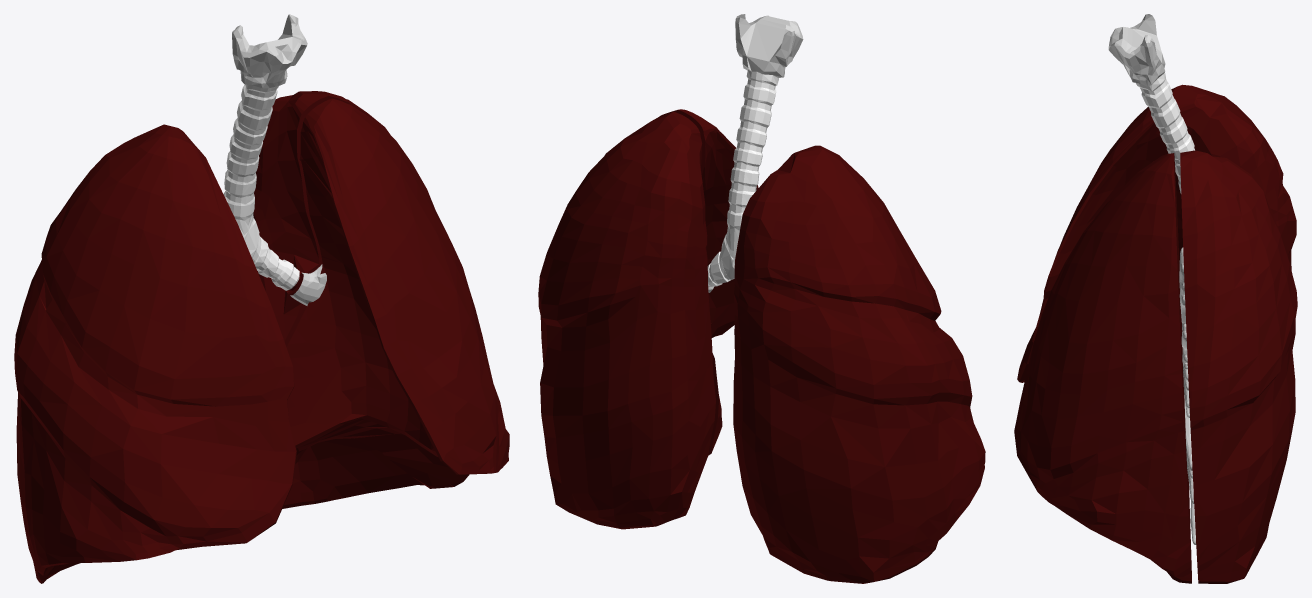
Rendered from lung.obj.
3 views of the same model, side by side, from view 1: azimuth 30°, elevation 25°; view 2: azimuth 150°, elevation 25°; view 3: azimuth 270°, elevation 25° (orthographic). The views are drawn at different scales.
Parts seen in each view (by area): view 1: rlung, toplung, bttmlung, tracea, larynx, bronchi2, lface; view 2: rlung, bttmlung, tracea, toplung, larynx, lungback; view 3: toplung, bttmlung, rlung, larynx, tracea, bronchi2, lungback.
Boxes of the visible parts, left/top/right/bottom form: rlung: left=14, top=124, right=296, bottom=583; toplung: left=286, top=98, right=509, bottom=488; bttmlung: left=253, top=91, right=424, bottom=508; tracea: left=223, top=84, right=299, bottom=290; larynx: left=232, top=14, right=307, bottom=88; bronchi2: left=290, top=264, right=326, bottom=305; lface: left=284, top=96, right=374, bottom=346; rlung: left=733, top=145, right=985, bottom=583; bttmlung: left=538, top=112, right=715, bottom=529; tracea: left=707, top=69, right=778, bottom=292; toplung: left=661, top=109, right=758, bottom=452; larynx: left=735, top=14, right=803, bottom=77; lungback: left=658, top=110, right=719, bottom=455; toplung: left=1014, top=153, right=1191, bottom=583; bttmlung: left=1180, top=150, right=1297, bottom=583; rlung: left=1017, top=84, right=1296, bottom=382; larynx: left=1108, top=14, right=1165, bottom=86; tracea: left=1136, top=72, right=1194, bottom=193; bronchi2: left=1179, top=247, right=1196, bottom=544; lungback: left=1174, top=153, right=1191, bottom=578.
Bounding box in the file's own units: 9.58 × 11.39 × 6.02.
